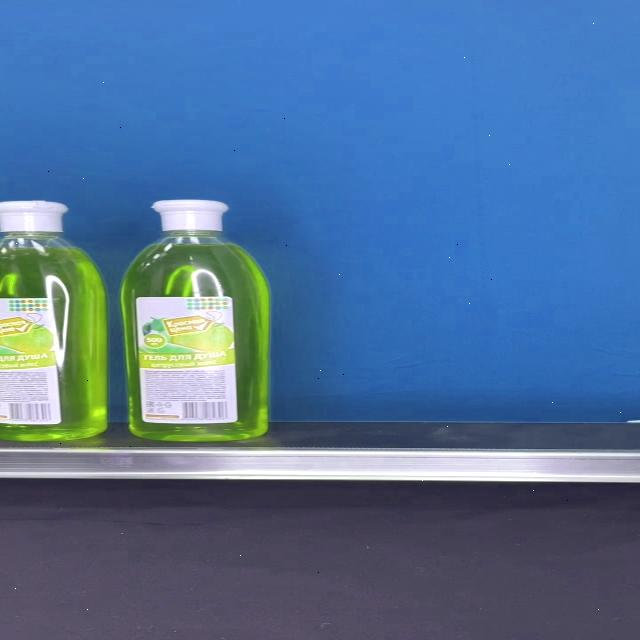Bottle: (120, 199, 269, 441)
Cap: (151, 200, 229, 232)
